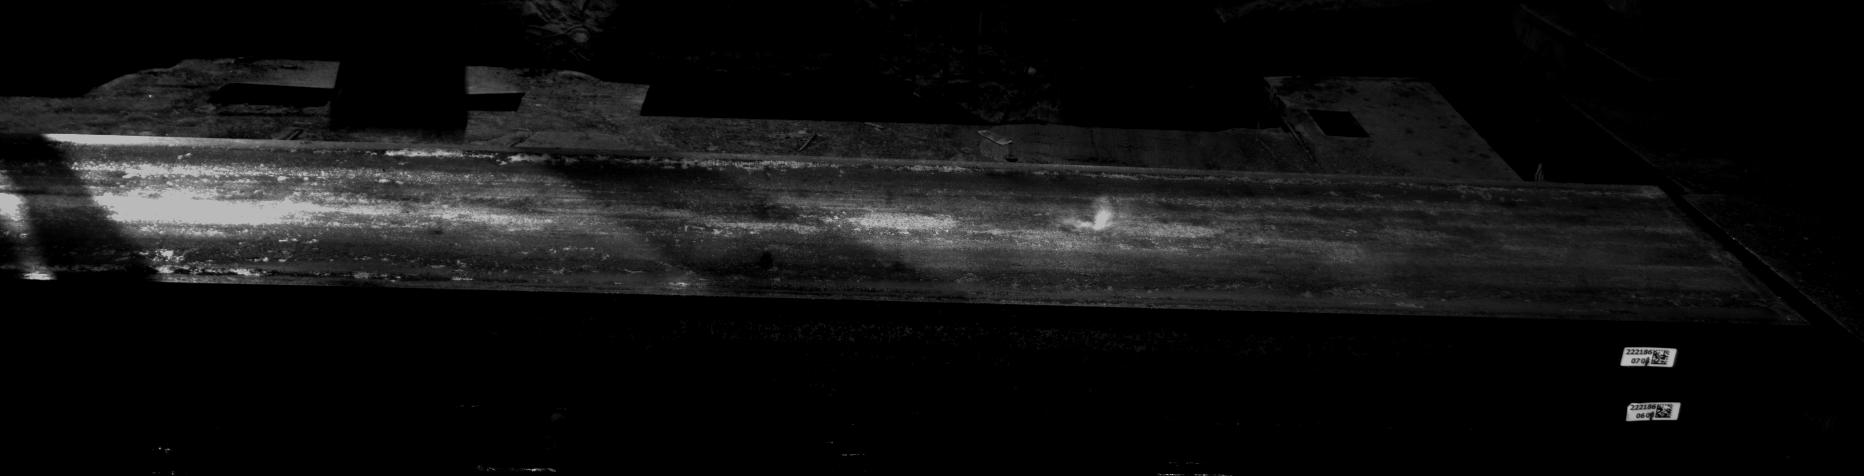data matrix: (1651, 349, 1671, 368), (1655, 403, 1674, 421)
